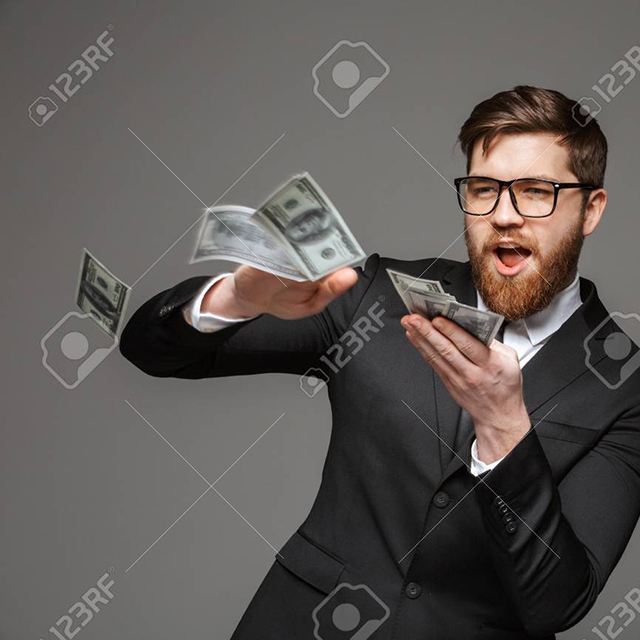banknotes: (253, 172, 365, 279), (187, 204, 308, 279), (385, 269, 499, 345), (73, 250, 129, 335)
